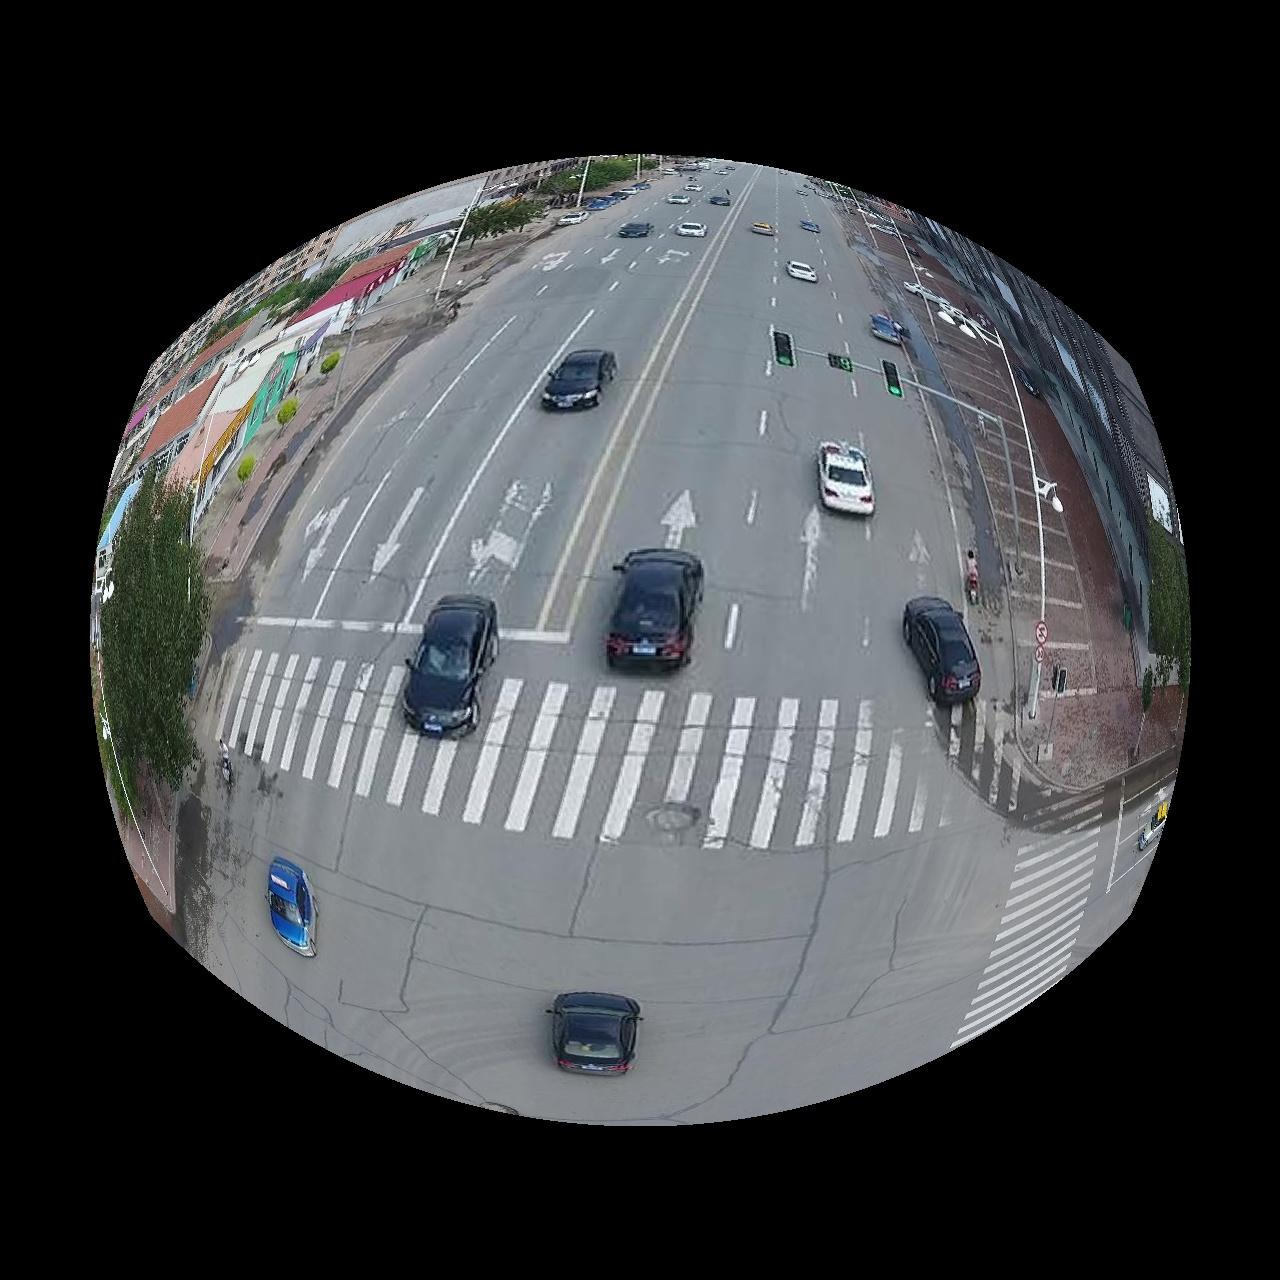cars: (402, 595, 498, 737), (606, 549, 704, 668), (905, 597, 983, 704), (546, 994, 644, 1076), (266, 858, 316, 959), (818, 441, 877, 517), (542, 350, 617, 409), (871, 313, 908, 345), (787, 259, 819, 281)
trees: (98, 469, 207, 789), (1151, 520, 1193, 689), (536, 154, 659, 205), (461, 196, 545, 246)
